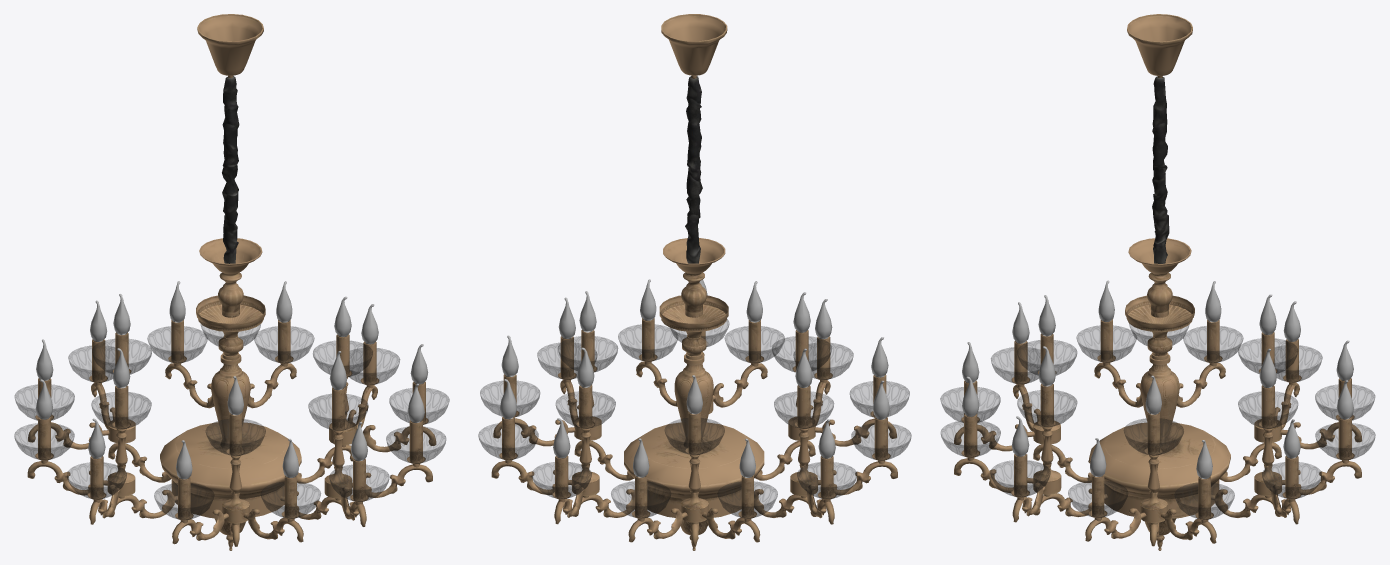
The model's file is Chandelier_03_1k.obj.
3 views of the same model, side by side, from view 1: azimuth 30°, elevation 25°; view 2: azimuth 150°, elevation 25°; view 3: azimuth 270°, elevation 25° (orthographic).
Parts seen in each view (by area): view 1: Chandelier_03_Bogate_s_Beatrix_285x18_Strotskis_cristal_A_001.00; view 2: Chandelier_03_Bogate_s_Beatrix_285x18_Strotskis_cristal_A_001.00; view 3: Chandelier_03_Bogate_s_Beatrix_285x18_Strotskis_cristal_A_001.00.
Part boxes in pixels (x1=…): Chandelier_03_Bogate_s_Beatrix_285x18_Strotskis_cristal_A_001.00: x1=14, y1=14, x2=449, y2=550; Chandelier_03_Bogate_s_Beatrix_285x18_Strotskis_cristal_A_001.00: x1=478, y1=14, x2=911, y2=550; Chandelier_03_Bogate_s_Beatrix_285x18_Strotskis_cristal_A_001.00: x1=940, y1=14, x2=1375, y2=550.
Bounding box in the file's own units: 0.7804 × 1.04 × 0.7855.
